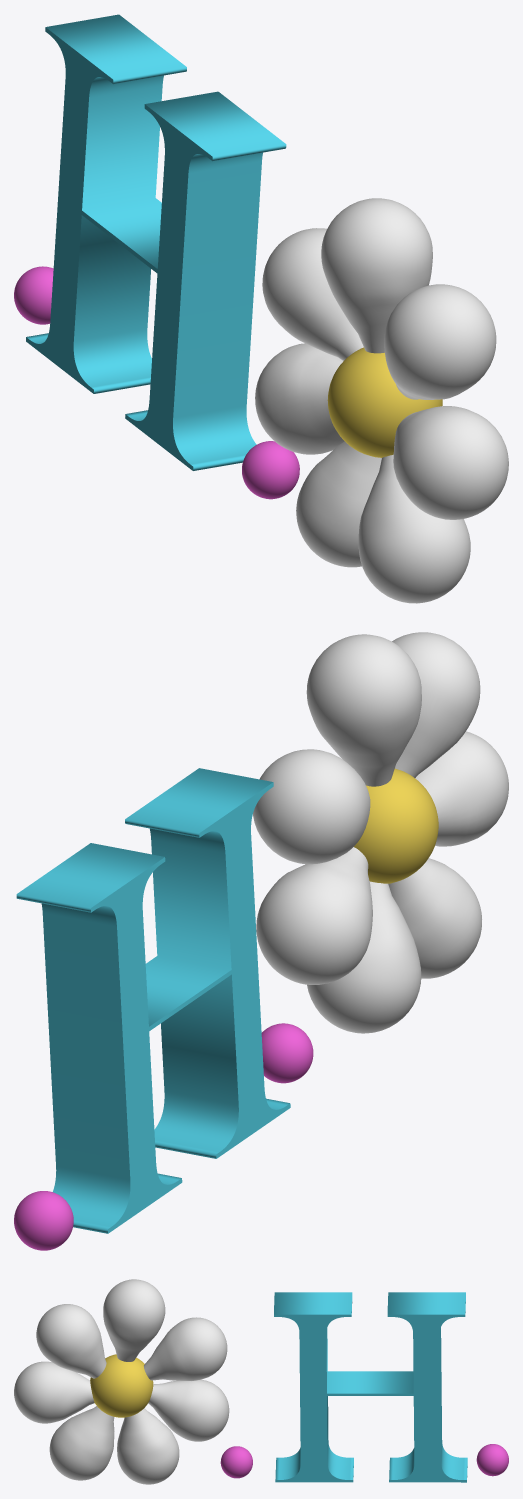
File: 3Dexercise.glb
3 renders of one model, top to bottom at view 1: azimuth 30°, elevation 25°; view 2: azimuth 150°, elevation 25°; view 3: azimuth 270°, elevation 25°, orthographic. The views are drawn at different scales.
Parts seen in each view (by area): view 1: Text, Sphere, Sphere.003, Sphere.002, Sphere.004, Sphere.007, Sphere.006, Sphere.005, Sphere.001, Sphere.008, Sphere.009; view 2: Text, Sphere, Sphere.006, Sphere.007, Sphere.005, Sphere.002, Sphere.004, Sphere.003, Sphere.001, Sphere.009, Sphere.008; view 3: Text, Sphere.007, Sphere.002, Sphere.006, Sphere, Sphere.003, Sphere.004, Sphere.005, Sphere.001, Sphere.008, Sphere.009.
Part boxes in pixels (x1,y1,x2,y2): Text: [26, 14, 286, 470]; Sphere: [321, 198, 432, 353]; Sphere.003: [393, 406, 508, 519]; Sphere.002: [384, 284, 496, 399]; Sphere.004: [358, 454, 470, 603]; Sphere.007: [262, 228, 363, 360]; Sphere.006: [255, 343, 344, 454]; Sphere.005: [296, 441, 381, 567]; Sphere.001: [327, 347, 442, 457]; Sphere.008: [242, 441, 299, 499]; Sphere.009: [14, 266, 53, 324]; Text: [16, 768, 290, 1233]; Sphere: [306, 634, 421, 786]; Sphere.006: [256, 847, 372, 984]; Sphere.007: [253, 749, 370, 864]; Sphere.005: [307, 881, 421, 1033]; Sphere.002: [392, 632, 480, 777]; Sphere.004: [388, 858, 481, 978]; Sphere.003: [415, 731, 508, 846]; Sphere.001: [354, 768, 438, 883]; Sphere.009: [14, 1191, 73, 1250]; Sphere.008: [261, 1023, 313, 1083]; Text: [274, 1292, 467, 1482]; Sphere.007: [144, 1317, 227, 1380]; Sphere.002: [36, 1304, 106, 1378]; Sphere.006: [148, 1379, 229, 1441]; Sphere: [103, 1279, 165, 1361]; Sphere.003: [14, 1361, 94, 1423]; Sphere.004: [49, 1406, 114, 1480]; Sphere.005: [117, 1408, 179, 1484]; Sphere.001: [90, 1354, 153, 1417]; Sphere.008: [220, 1446, 252, 1478]; Sphere.009: [476, 1444, 508, 1476].
Bounding box in the file's own units: 1.02 × 3.18 × 7.03.
